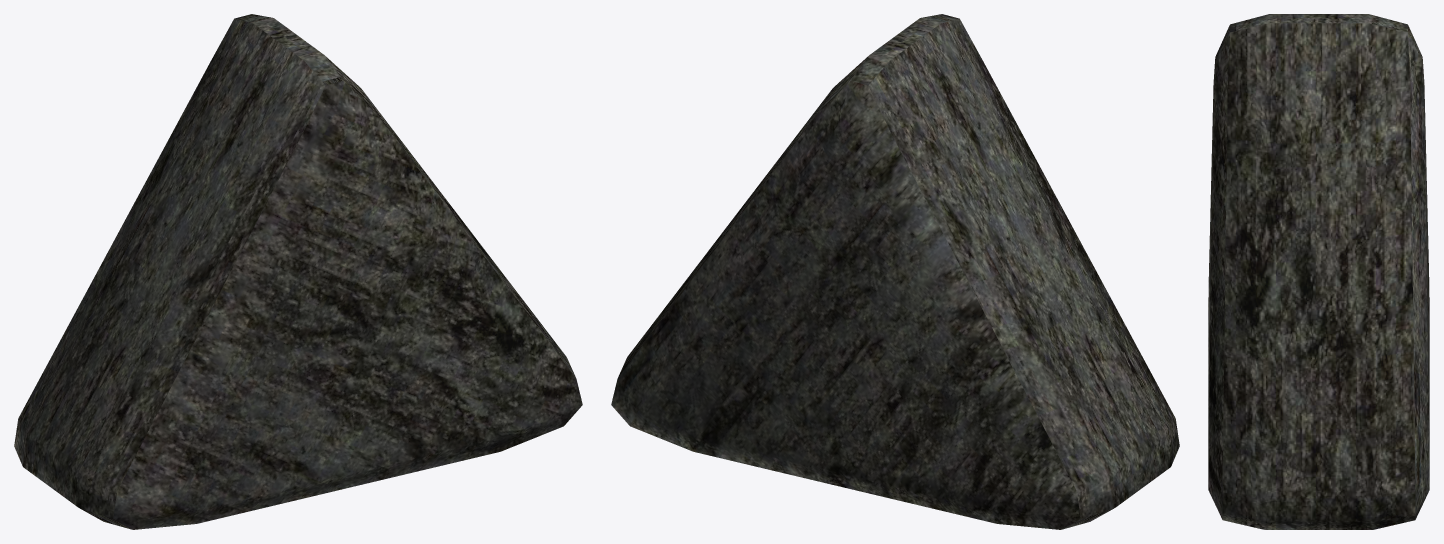
File: TriangleGimbap.fbx
3 renders of one model, left to right at view 1: azimuth 30°, elevation 25°; view 2: azimuth 150°, elevation 25°; view 3: azimuth 270°, elevation 25°, orthographic. The views are drawn at different scales.
Parts seen in each view (by area): view 1: Object32377.163; view 2: Object32377.163; view 3: Object32377.163.
Boxes of the visible parts, x1,y1,x2,y2 form: Object32377.163: (14,14,582,529); Object32377.163: (611,14,1179,529); Object32377.163: (1208,14,1429,529).
Bounding box in the file's own units: 15.48 × 12.62 × 6.14.
